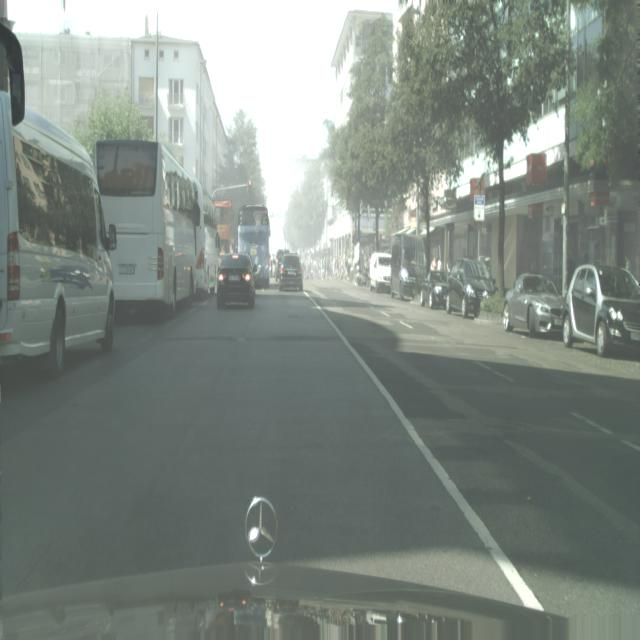bicycle: (0, 86, 117, 379), (93, 138, 205, 313), (237, 203, 271, 290), (214, 198, 232, 259)
person: (562, 263, 640, 358), (502, 273, 567, 339), (445, 257, 493, 319), (217, 253, 256, 311), (419, 266, 449, 309), (278, 251, 303, 293), (369, 251, 391, 293)
